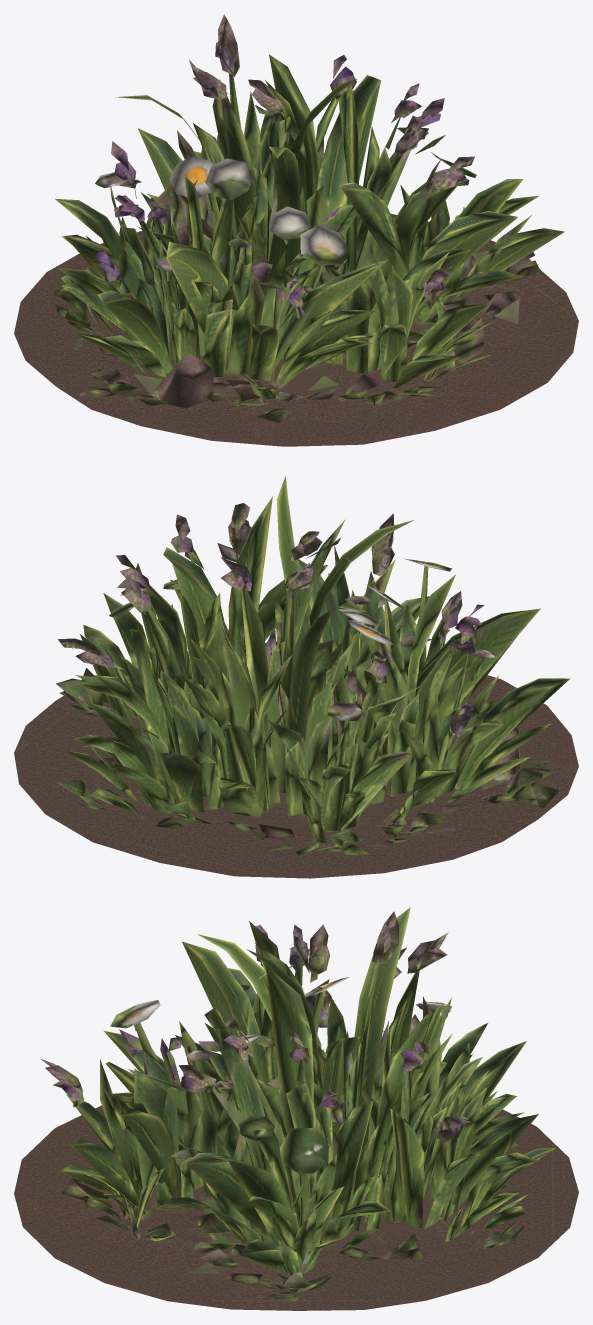
File: meadow-clump.glb
3 views of the same model, one above another, from view 1: azimuth 30°, elevation 25°; view 2: azimuth 150°, elevation 25°; view 3: azimuth 270°, elevation 25° (orthographic).
Parts seen in each view (by area): view 1: Mesh_0; view 2: Mesh_0; view 3: Mesh_0.
Part boxes in pixels (bbox=[...]): Mesh_0: bbox=[14, 14, 578, 446]; Mesh_0: bbox=[14, 476, 578, 878]; Mesh_0: bbox=[14, 907, 578, 1310].
Bounding box in the file's own units: 0.9588 × 0.5 × 0.9588.
1 material, 1 textured.
